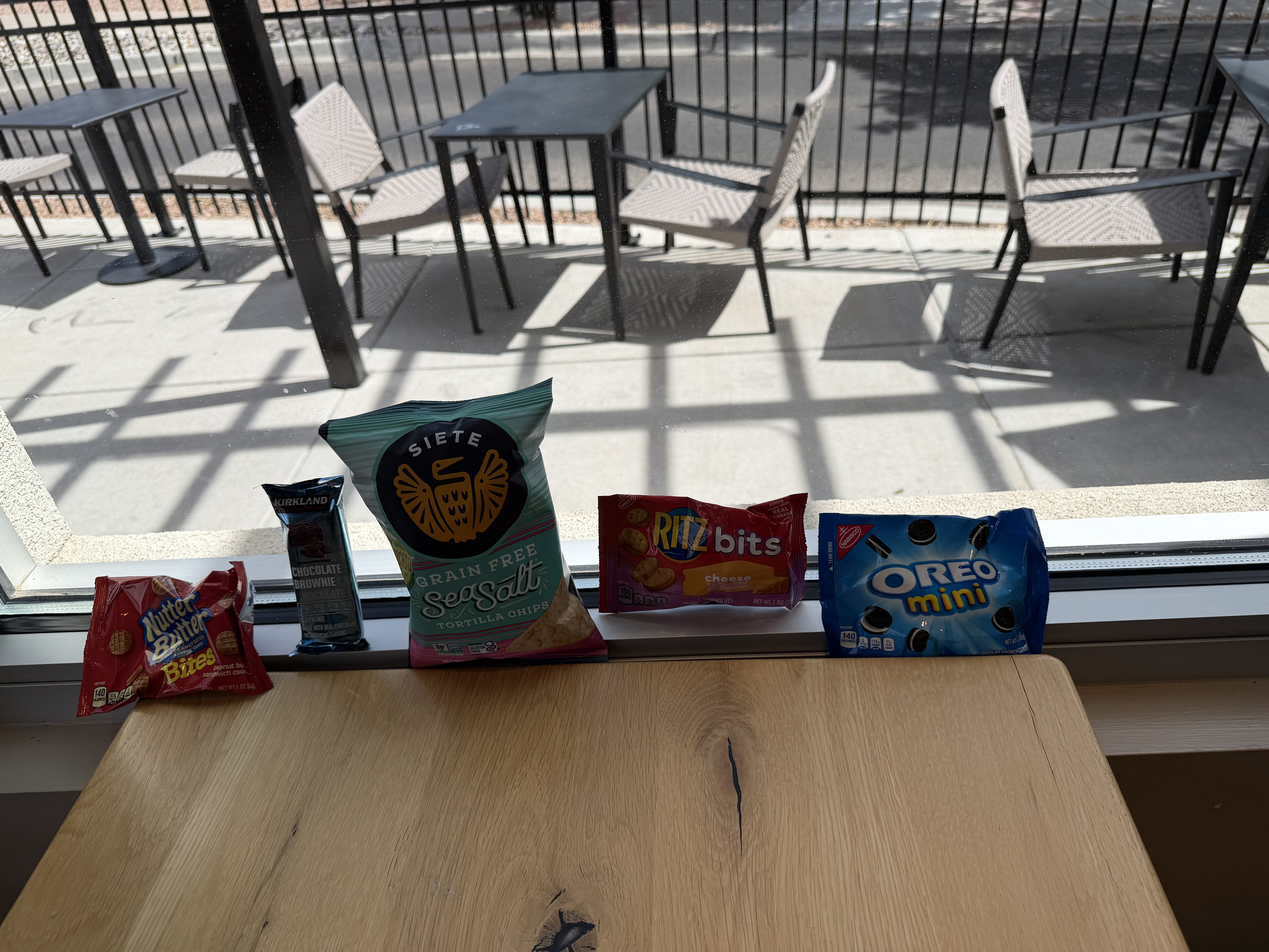chocolate_brownie: (252, 470, 384, 669)
nutter_butter: (65, 568, 283, 705)
oreo_mini: (812, 503, 1061, 659)
ritz_cheese: (587, 477, 828, 631)
sea_salt: (335, 387, 617, 672)
